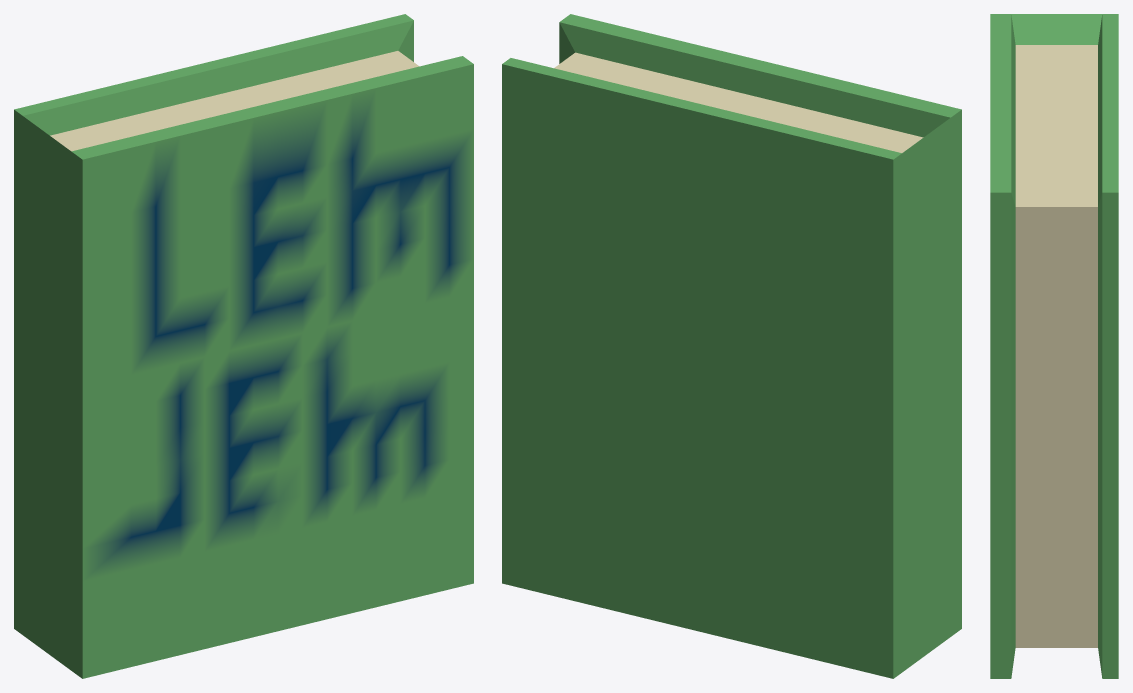
File: book gren.fbx
3 views of the same model, side by side, from view 1: azimuth 30°, elevation 25°; view 2: azimuth 150°, elevation 25°; view 3: azimuth 270°, elevation 25° (orthographic). The views are drawn at different scales.
Parts seen in each view (by area): view 1: Cube; view 2: Cube; view 3: Cube.
Part boxes in pixels (<box>): Cube: <box>14,14,473,678</box>; Cube: <box>502,14,961,678</box>; Cube: <box>990,14,1118,678</box>.
Bounding box in the file's own units: 200 × 254 × 60.64.
